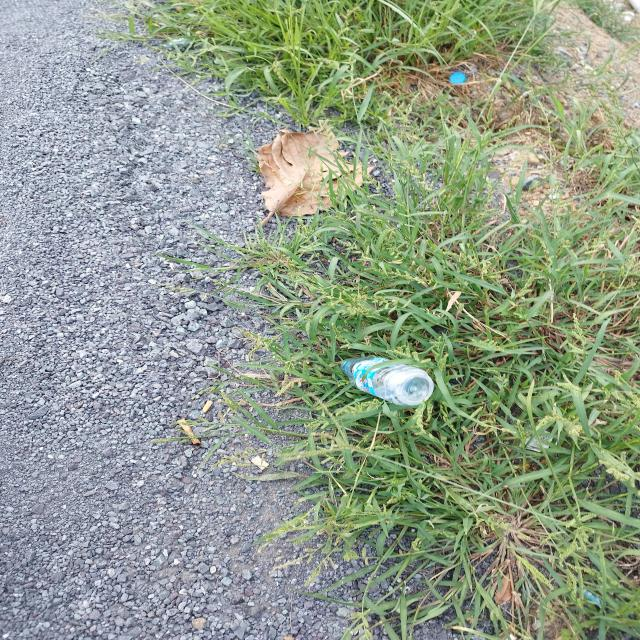bottle: (340, 357, 434, 406)
